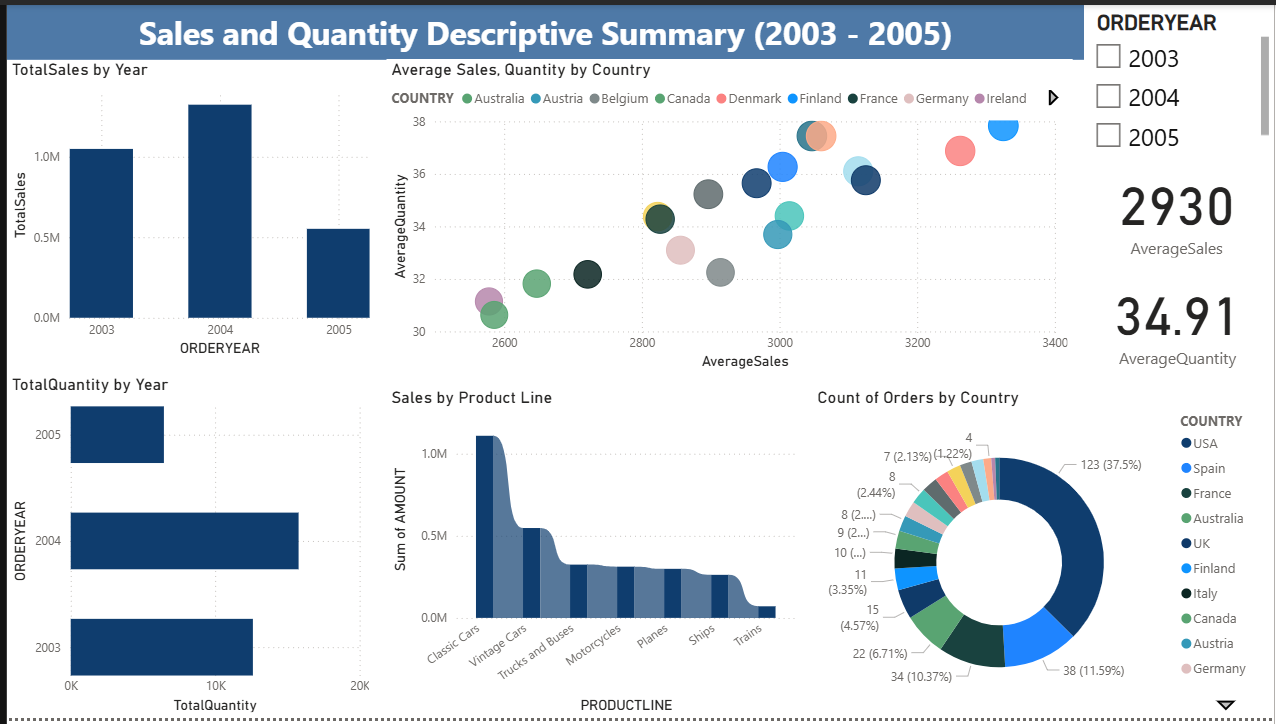

This screenshot's page, from the dashboard's own definition file:
{"tool":"powerbi","page":{"name":"Page 1","canvas":[1280,720],"ordinal":0},"visuals":[{"type":"columnChart","title":"TotalSales by Year","fields":{"Category":["orders.ORDERYEAR Hierarchy.ORDERYEAR","orders.ORDERYEAR Hierarchy.ORDERQUARTER","orders.ORDERYEAR Hierarchy.ORDERMONTH","orders.ORDERYEAR Hierarchy.ORDERDAY","orders.ORDERYEAR Hierarchy.AMOUNT"],"Y":["orders.TotalSales"]},"box":[0,55.3,371.2,303.9],"z":0},{"type":"textbox","box":[0,0,1087.8,55.3],"z":1000},{"type":"clusteredBarChart","title":"TotalQuantity by Year","fields":{"Category":["orders.ORDERYEAR Hierarchy.ORDERYEAR","orders.ORDERYEAR Hierarchy.ORDERQUARTER","orders.ORDERYEAR Hierarchy.ORDERMONTH","orders.ORDERYEAR Hierarchy.ORDERDAY","orders.ORDERYEAR Hierarchy.AMOUNT"],"Y":["orders.TotalQuantity"]},"box":[0,372.8,370.6,346],"z":2000},{"type":"slicer","fields":{"Values":["orders.ORDERYEAR"]},"box":[1087.8,0,191.7,148.5],"z":3000},{"type":"donutChart","title":"Count of Orders by Country","fields":{"Category":["customers.COUNTRY"],"Y":["CountNonNull(customers.ORDERNUMBER)"]},"box":[813.2,386.8,466.2,333.2],"z":4000},{"type":"ribbonChart","title":"Sales by Product Line","fields":{"Category":["orders.PRODUCTLINE"],"Y":["Sum(orders.AMOUNT)"]},"box":[383.3,386.8,417.8,333.2],"z":5000},{"type":"card","fields":{"Values":["orders.AverageSales"]},"box":[1087.8,153.7,186.5,107.1],"z":6000},{"type":"card","fields":{"Values":["orders.AverageQuantity"]},"box":[1087.8,260.7,188.2,114],"z":7000},{"type":"scatterChart","title":"Average Sales, Quantity by Country","fields":{"X":["orders.AverageSales"],"Y":["orders.AverageQuantity"],"Category":["customers.COUNTRY"],"Series":["customers.COUNTRY"],"Size":["orders.AverageQuantity"]},"box":[383.3,55.3,692.4,317.7],"z":8000}]}

Visuals, with their boxes in screenshot pixels (x1, y1, x2, y2), scaled from the page's 1280x720 canvas onto the 1276x724 screenshot:
"TotalSales by Year" columnChart: <bbox>0, 56, 370, 361</bbox>
textbox: <bbox>0, 0, 1084, 56</bbox>
"TotalQuantity by Year" clusteredBarChart: <bbox>0, 375, 369, 723</bbox>
slicer - orders.ORDERYEAR: <bbox>1084, 0, 1275, 149</bbox>
"Count of Orders by Country" donutChart: <bbox>811, 389, 1275, 723</bbox>
"Sales by Product Line" ribbonChart: <bbox>382, 389, 799, 723</bbox>
card - orders.AverageSales: <bbox>1084, 155, 1270, 262</bbox>
card - orders.AverageQuantity: <bbox>1084, 262, 1272, 377</bbox>
"Average Sales, Quantity by Country" scatterChart: <bbox>382, 56, 1072, 375</bbox>
